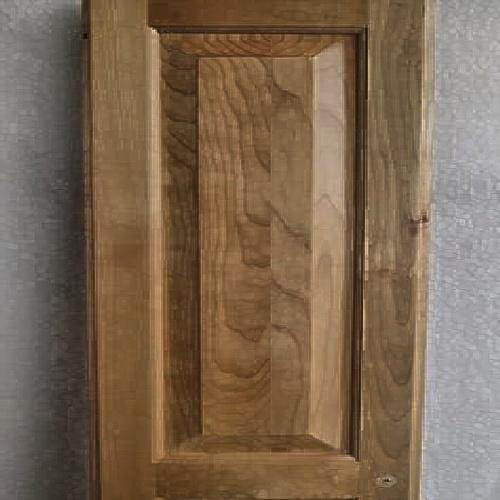cabinet: (79, 10, 417, 493)
